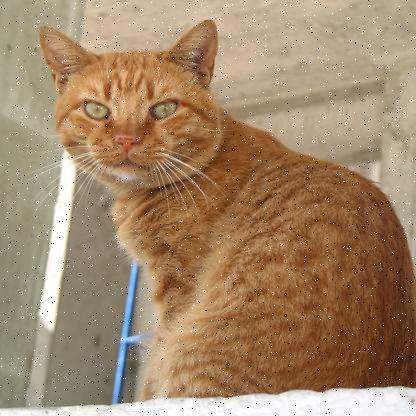cat: (27, 12, 409, 398)
